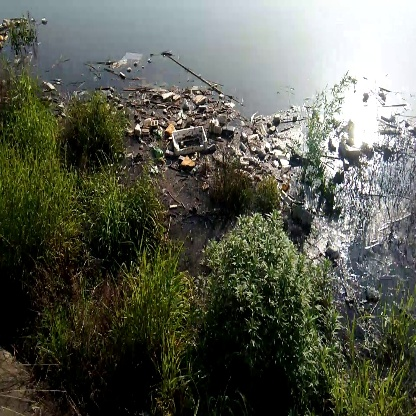branch: (167, 54, 235, 100)
plastic-garbage: (171, 124, 212, 156)
